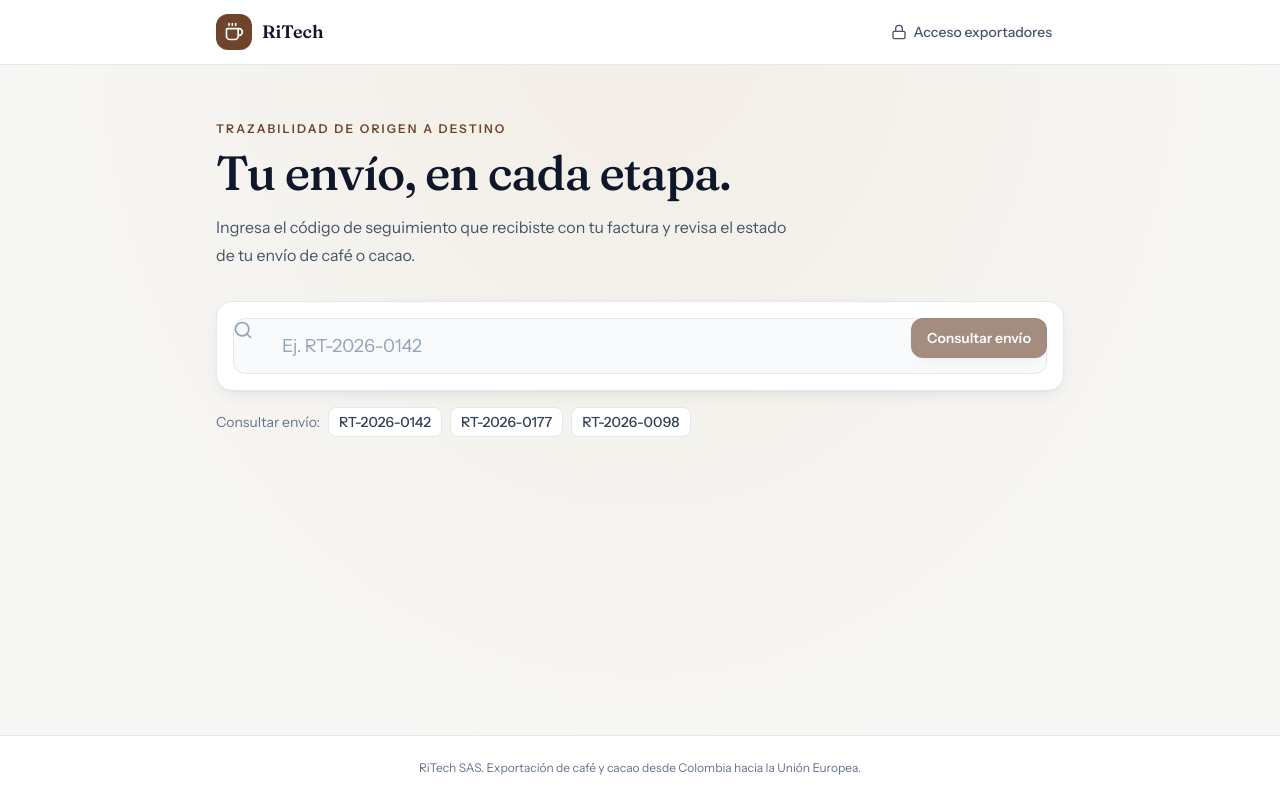
Scenario: TrackingView (unitaria) › normaliza el código a mayúsculas y quita espacios
The image size is (1280, 800).
Step 1. Type "  rt-2026-0177 " into the field named "Código de seguimiento" → (640, 346), box [233, 318, 1047, 374]
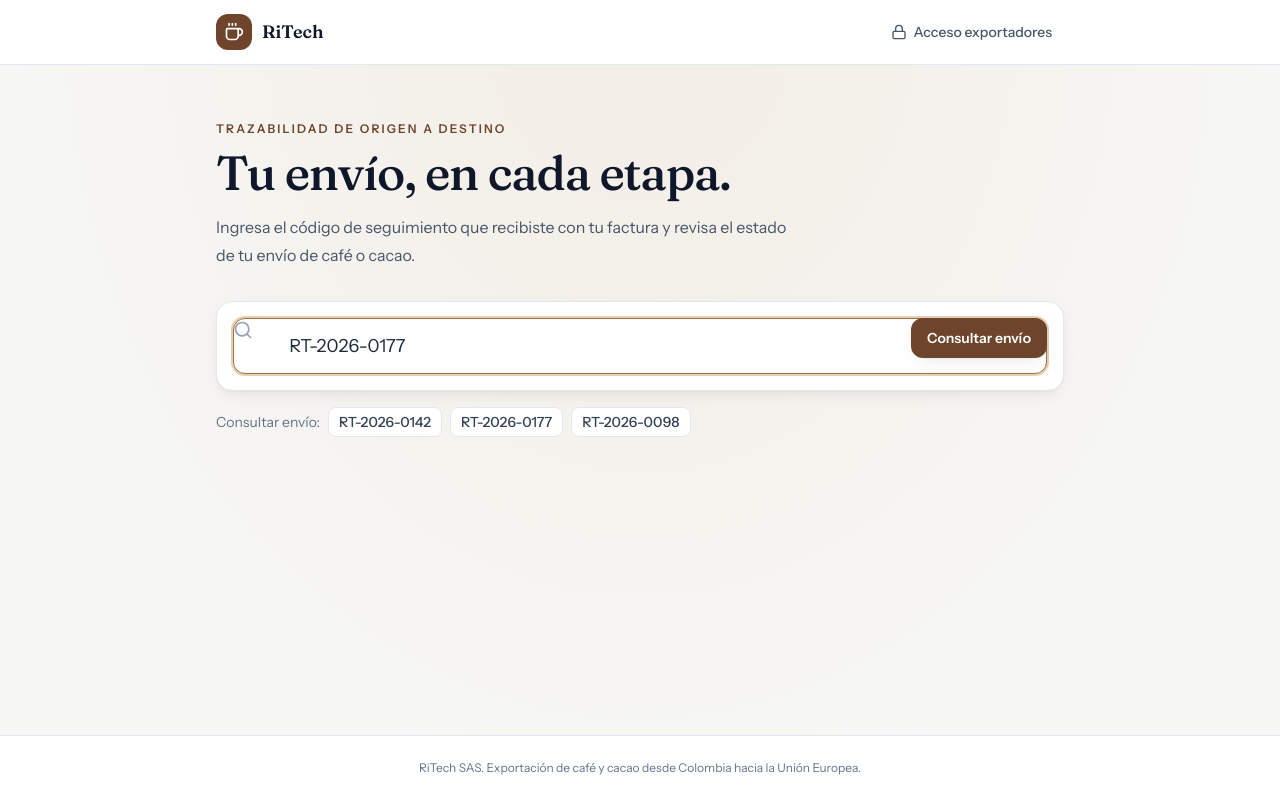
Step 2. Click the button "Consultar envío" → (979, 338), box [911, 318, 1047, 358]
Wait 700 ms
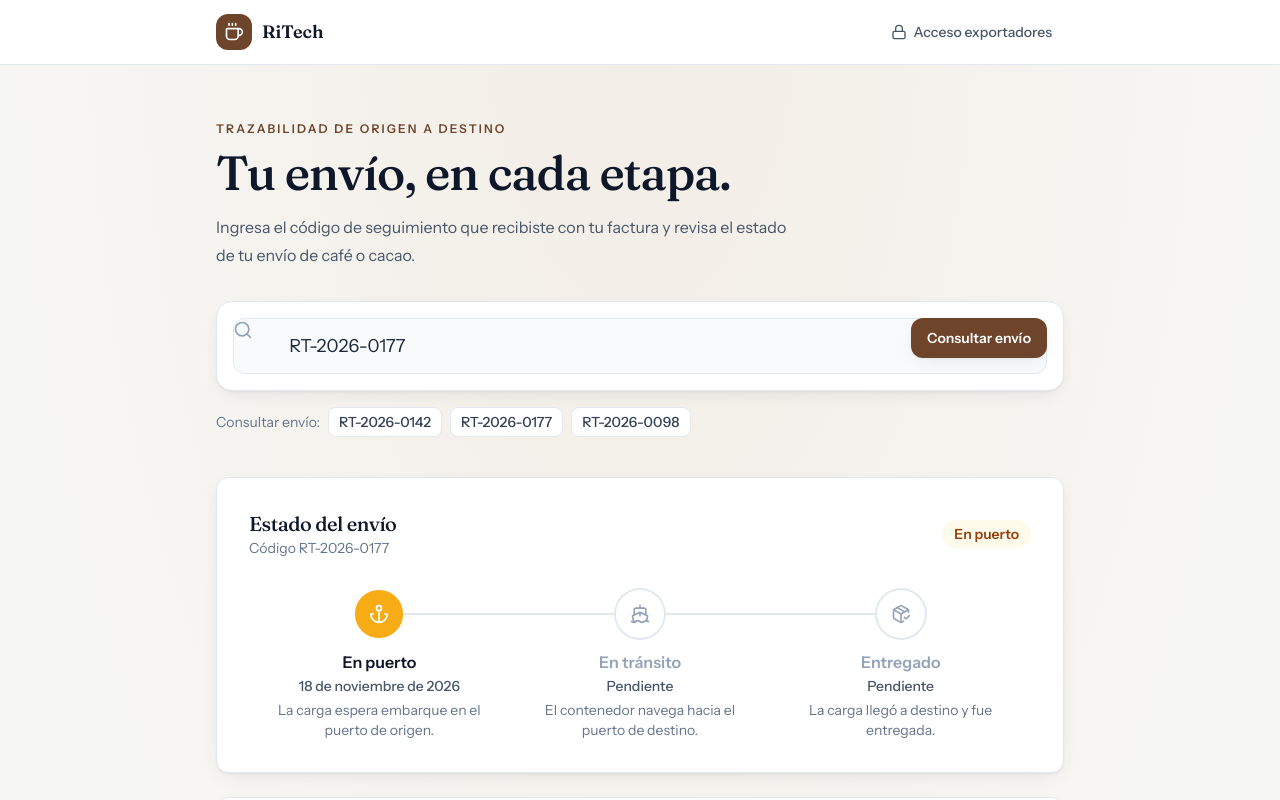
Result: the text "Código RT-2026-0177" is shown at [249, 538, 396, 558]
